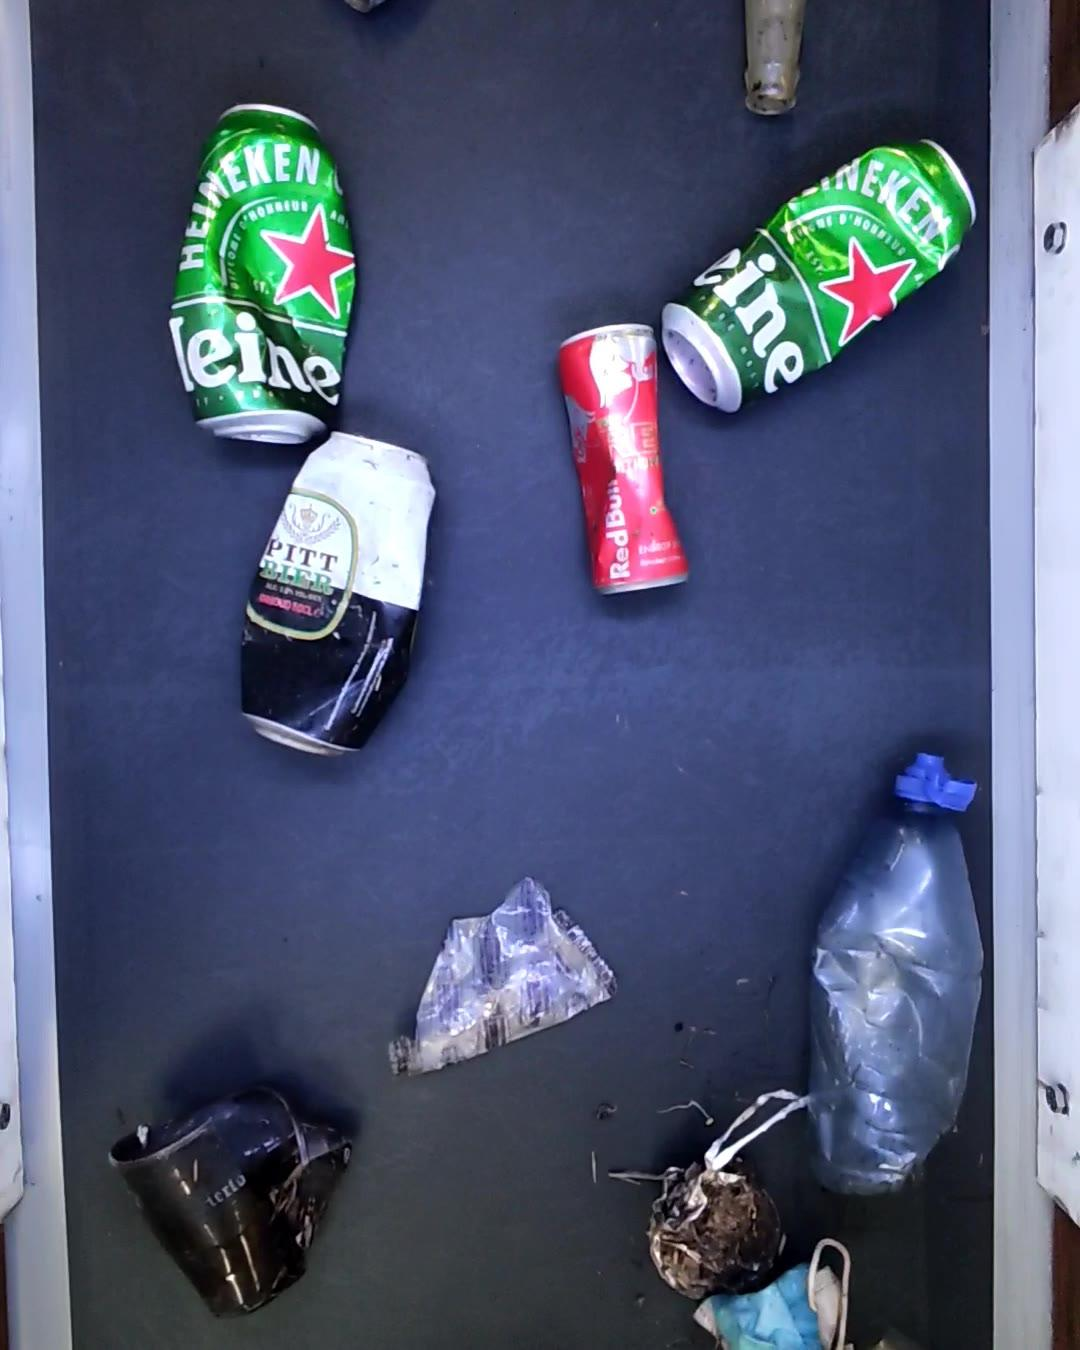Drankblikjes: (659, 137, 983, 409), (240, 426, 443, 762), (164, 100, 354, 452), (557, 315, 694, 607)
Drankflessen - 1-2 liter: (817, 745, 980, 1192)
Plastic folies of stukken daarvan 2.5- 50 cm: (386, 877, 617, 1080)
